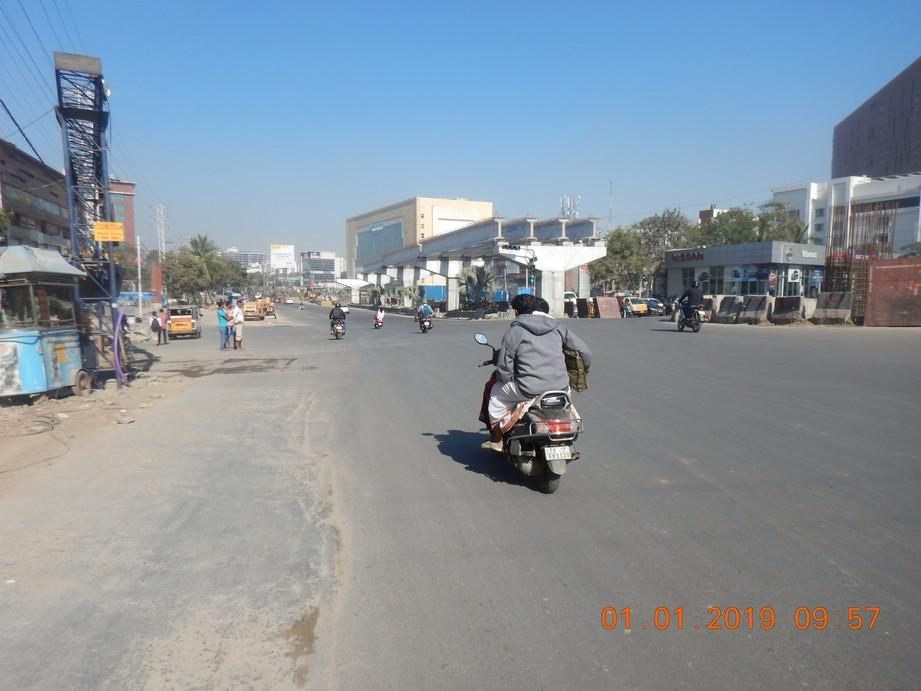plate: (543, 445, 573, 461)
